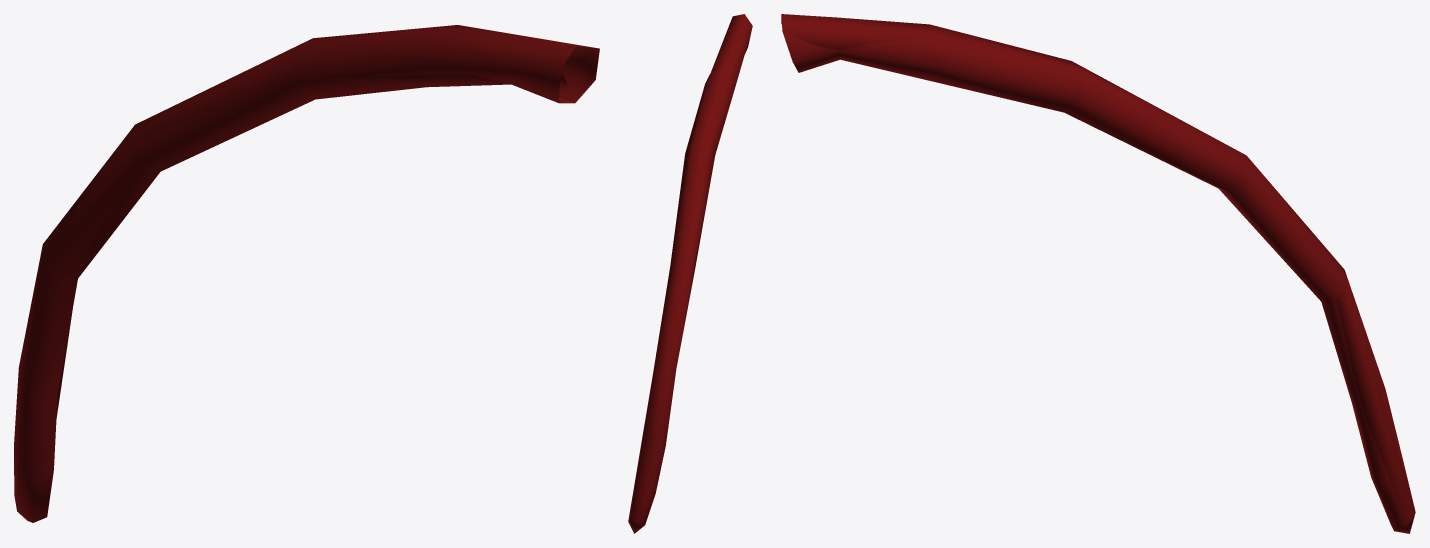
The model's file is L genus descendens.fbx.
3 renders of one model, left to right at view 1: azimuth 30°, elevation 25°; view 2: azimuth 150°, elevation 25°; view 3: azimuth 270°, elevation 25°, orthographic. The views are drawn at different scales.
Parts seen in each view (by area): view 1: L genus descendens, L genus descendens low; view 2: L genus descendens, L genus descendens low; view 3: L genus descendens, L genus descendens low.
Boxes of the visible parts, x1,y1,x2,y2 form: L genus descendens: (14, 25, 599, 522); L genus descendens low: (39, 25, 599, 515); L genus descendens: (628, 14, 752, 533); L genus descendens low: (628, 14, 744, 521); L genus descendens: (782, 14, 1415, 533); L genus descendens low: (781, 14, 1415, 525).
Size of the model in its own units: 2.16 by 6.61 by 6.49.
